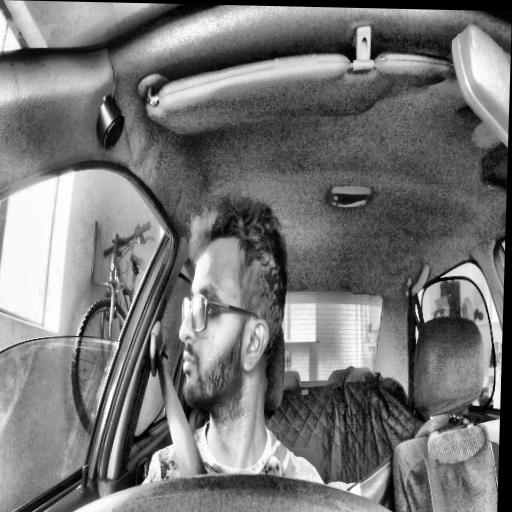awake: (178, 202, 290, 411)
